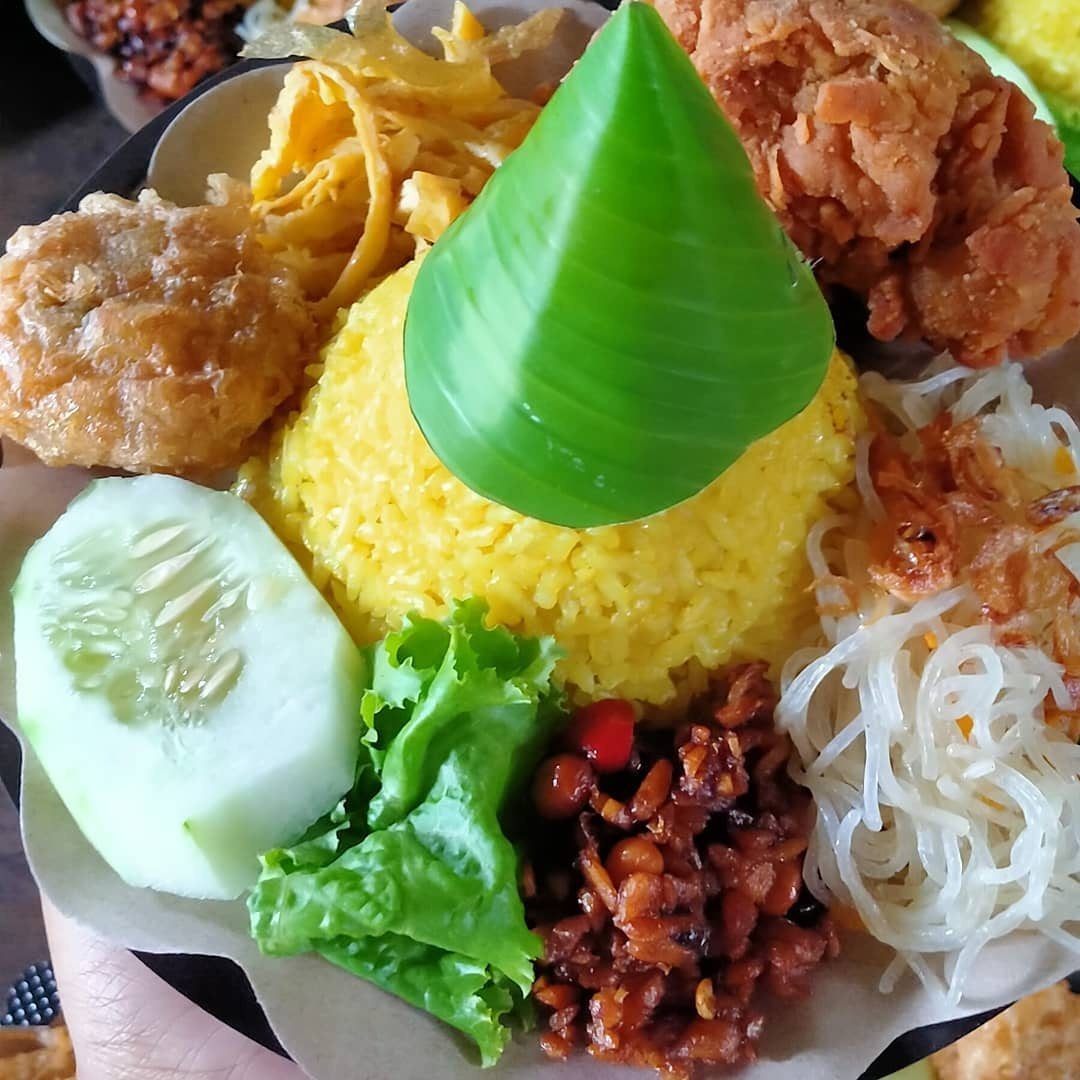tumpeng: (252, 34, 884, 689)
